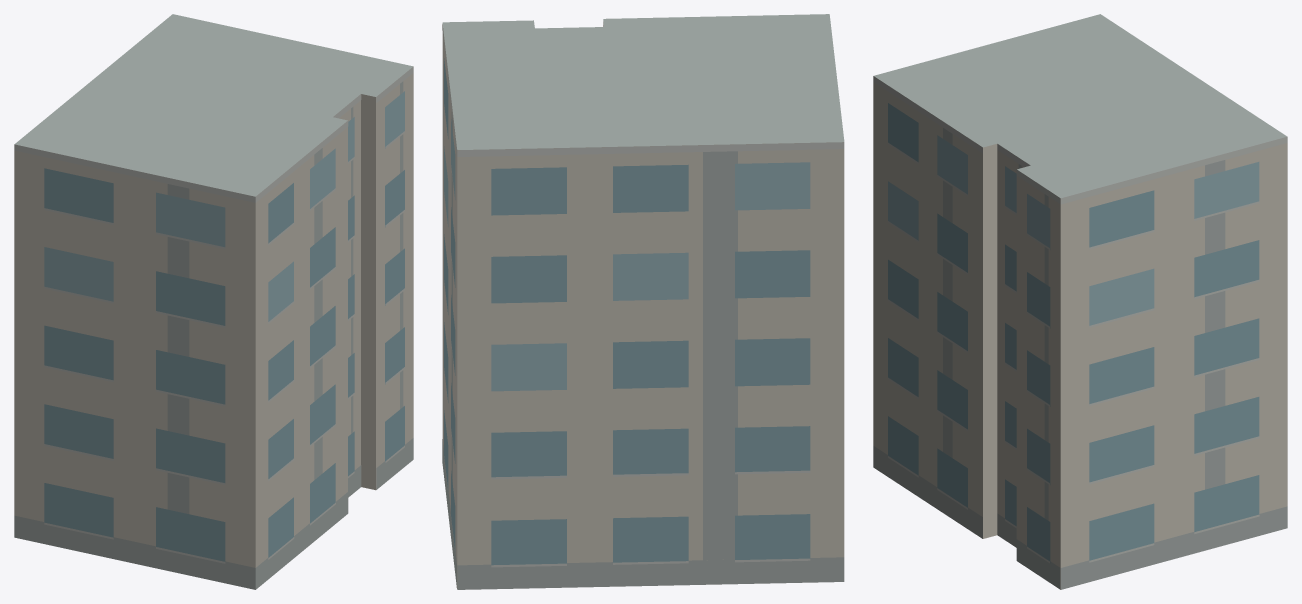
File: residential-321314aa-35e2-4127-9019-9f2ee00e536e.glb
The picture shows the model from 3 angles, left to right: view 1: azimuth 30°, elevation 25°; view 2: azimuth 150°, elevation 25°; view 3: azimuth 270°, elevation 25°; orthographic projection. The views are drawn at different scales.
Parts seen in each view (by area): view 1: residential-321314aa-35e2-4127-9019-9f2ee00e536e.tmp; view 2: residential-321314aa-35e2-4127-9019-9f2ee00e536e.tmp; view 3: residential-321314aa-35e2-4127-9019-9f2ee00e536e.tmp.
Part boxes in pixels (x1,y1,x2,y2): residential-321314aa-35e2-4127-9019-9f2ee00e536e.tmp: (14,14,413,589); residential-321314aa-35e2-4127-9019-9f2ee00e536e.tmp: (442,14,844,589); residential-321314aa-35e2-4127-9019-9f2ee00e536e.tmp: (873,14,1287,589).
Size of the model in its own units: 15.56 by 15.4 by 14.77.
